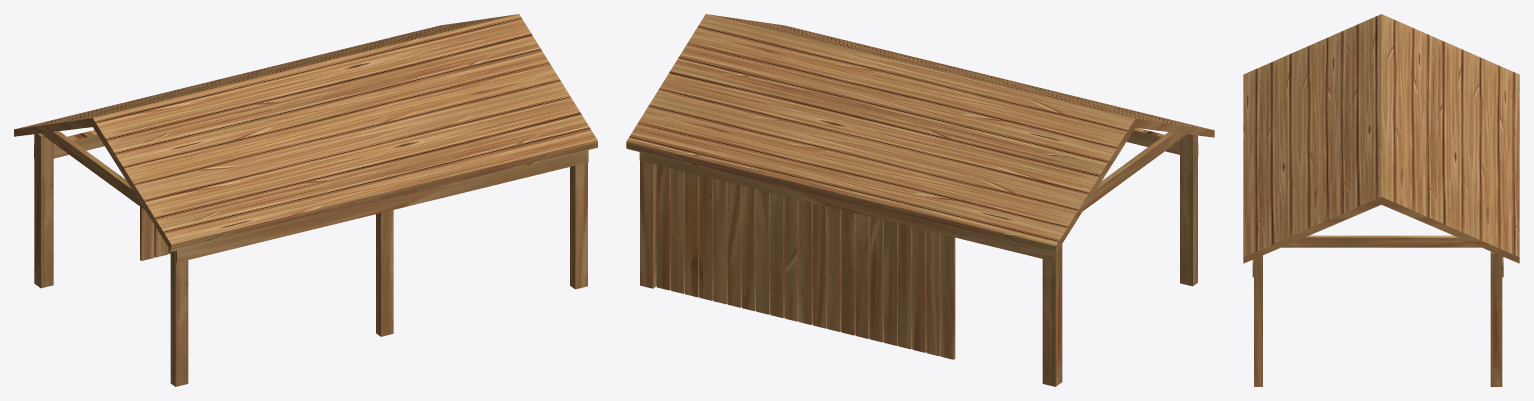
File: Cercado.fbx
3 renders of one model, left to right at view 1: azimuth 30°, elevation 25°; view 2: azimuth 150°, elevation 25°; view 3: azimuth 270°, elevation 25°, orthographic. The views are drawn at different scales.
Visible parts, largest first — view 1: Cube.001, Cube.003; view 2: Cube.001, Cube.003; view 3: Cube.001, Cube.003.
Boxes of the visible parts, <box> form: Cube.001: <box>14,14,597,251</box>; Cube.003: <box>34,130,588,386</box>; Cube.001: <box>626,14,1214,253</box>; Cube.003: <box>639,128,1198,386</box>; Cube.001: <box>1243,14,1519,263</box>; Cube.003: <box>1252,235,1503,386</box>.
Bounding box in the file's own units: 1401 × 685 × 895.
